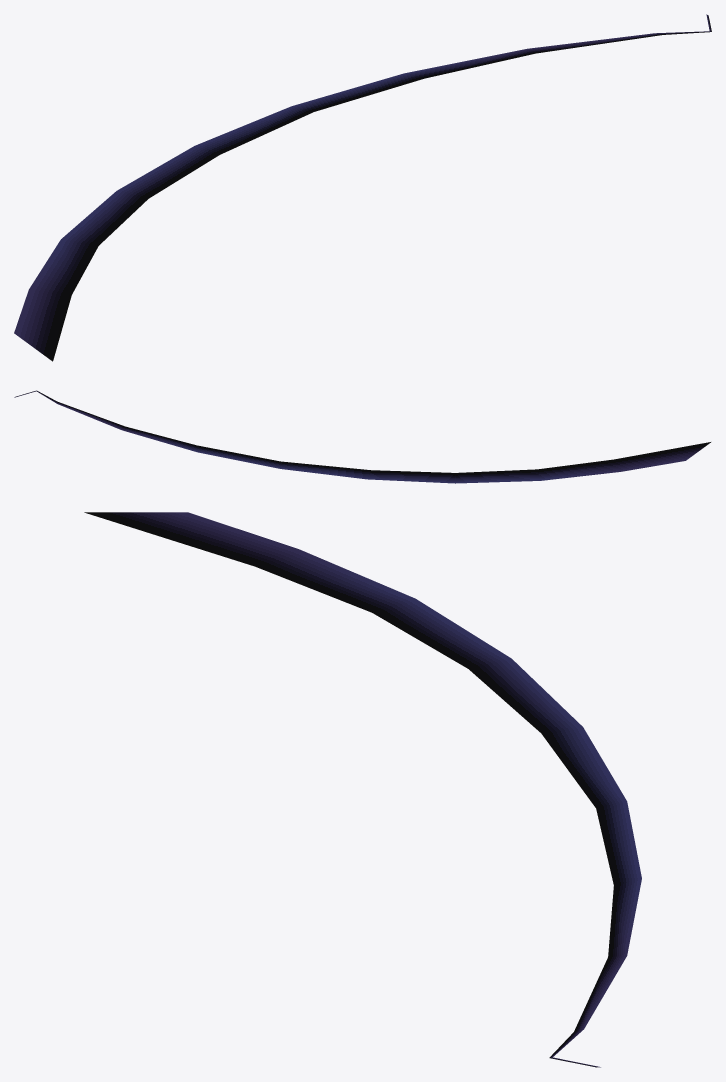
3 renders of one model, top to bottom at view 1: azimuth 30°, elevation 25°; view 2: azimuth 150°, elevation 25°; view 3: azimuth 270°, elevation 25°, orthographic. The views are drawn at different scales.
Visible parts, largest first — view 1: Joint_0_Object_0; view 2: Joint_0_Object_0; view 3: Joint_0_Object_0.
Part boxes in pixels (bbox=[...]): Joint_0_Object_0: bbox=[14, 14, 711, 361]; Joint_0_Object_0: bbox=[14, 390, 710, 483]; Joint_0_Object_0: bbox=[84, 512, 641, 1067].
Size of the model in its own units: 5602 by 0 by 2381.
1 material, 1 textured.
